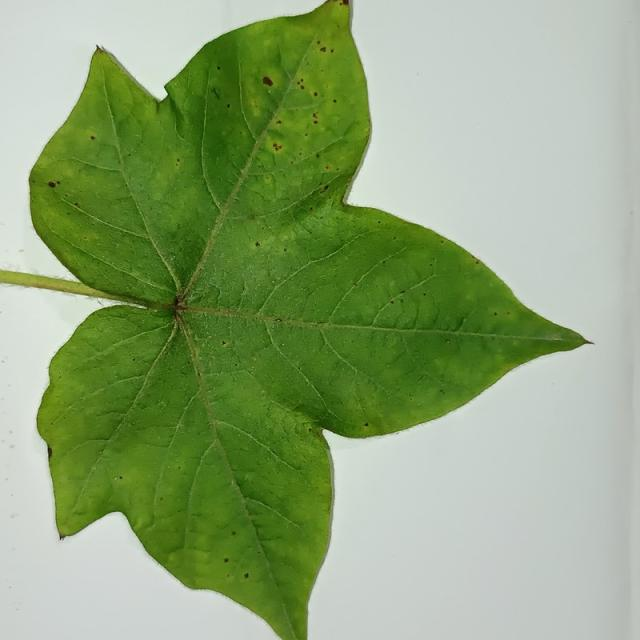Bacterial_Blight: (280, 66, 325, 114), (184, 278, 235, 315), (382, 287, 416, 309), (289, 416, 316, 442), (255, 67, 283, 89), (44, 172, 59, 201), (313, 41, 334, 59), (447, 313, 466, 332), (285, 456, 303, 470), (360, 420, 375, 431), (212, 88, 220, 100), (297, 79, 305, 89), (221, 338, 230, 346), (247, 214, 257, 221), (365, 127, 370, 136), (74, 201, 81, 207), (274, 145, 281, 151), (323, 185, 329, 191), (439, 388, 445, 394), (325, 165, 331, 170), (399, 290, 406, 294), (276, 120, 281, 125), (300, 78, 304, 83), (231, 531, 236, 535), (216, 66, 221, 70), (226, 103, 230, 108), (316, 153, 320, 158), (309, 206, 313, 211), (475, 260, 480, 264), (176, 158, 180, 162), (393, 236, 397, 240), (440, 239, 444, 243), (128, 153, 131, 157)
Cotton: (0, 0, 586, 639)
